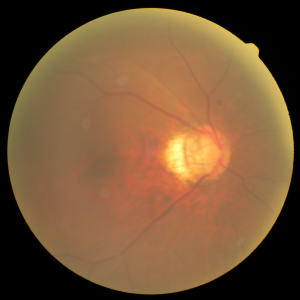glaucoma: (86, 92, 263, 218)
